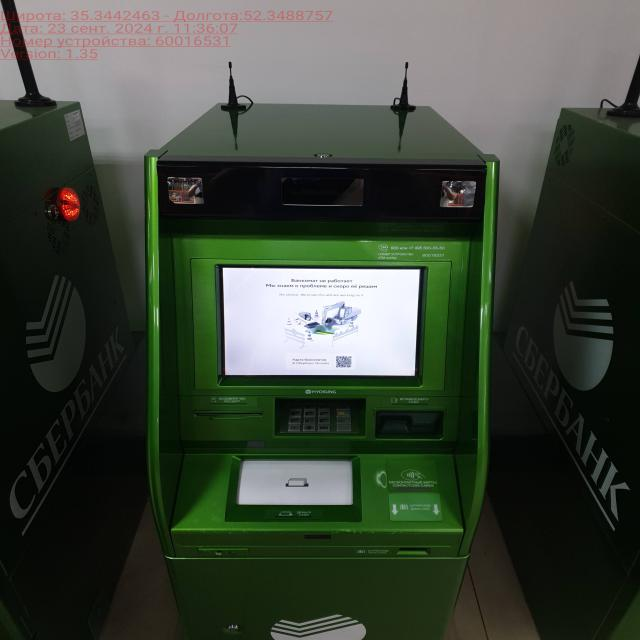bank: (148, 82, 501, 640), (0, 79, 156, 640), (506, 76, 640, 640)
